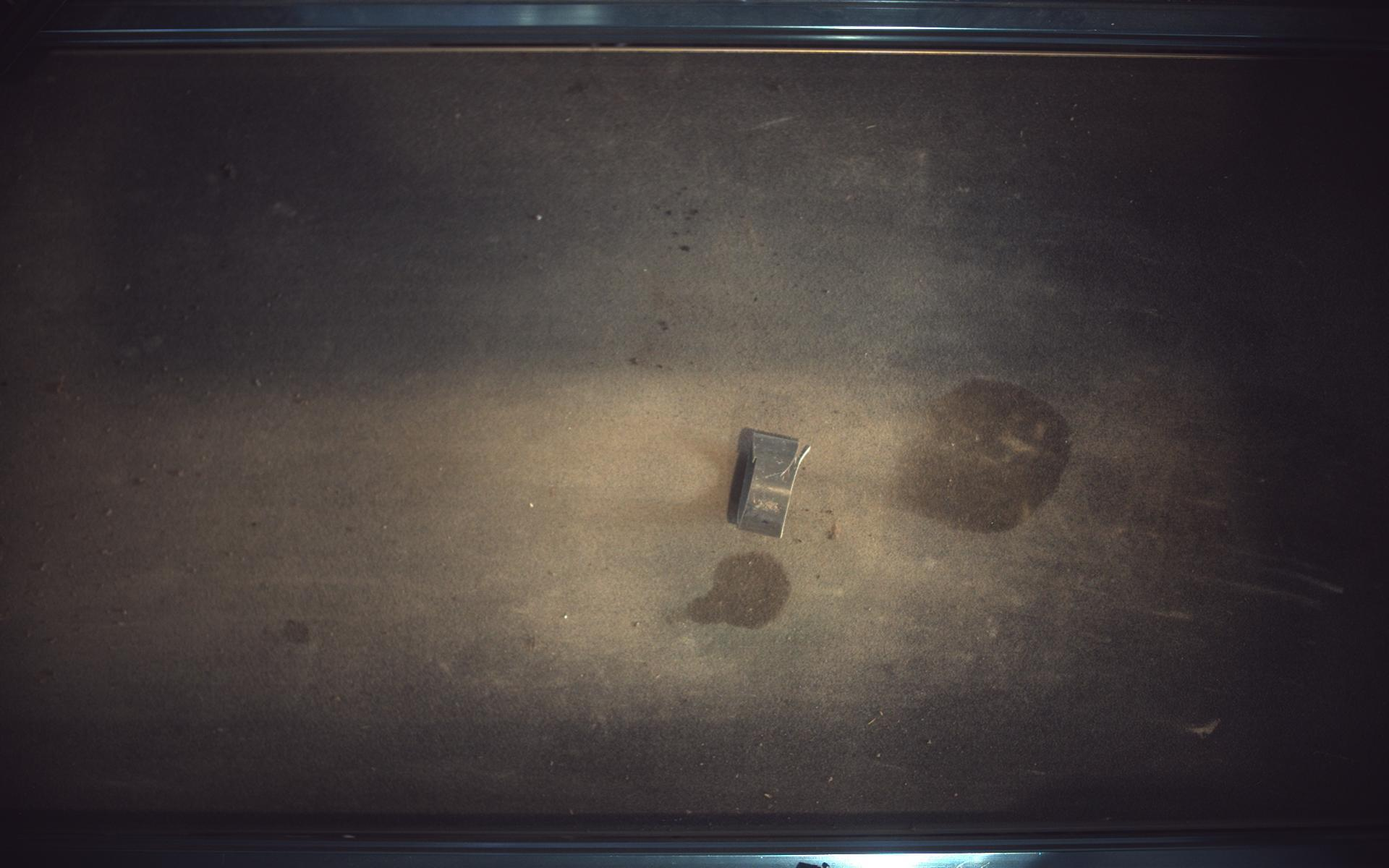pipes: (728, 427, 812, 538)
